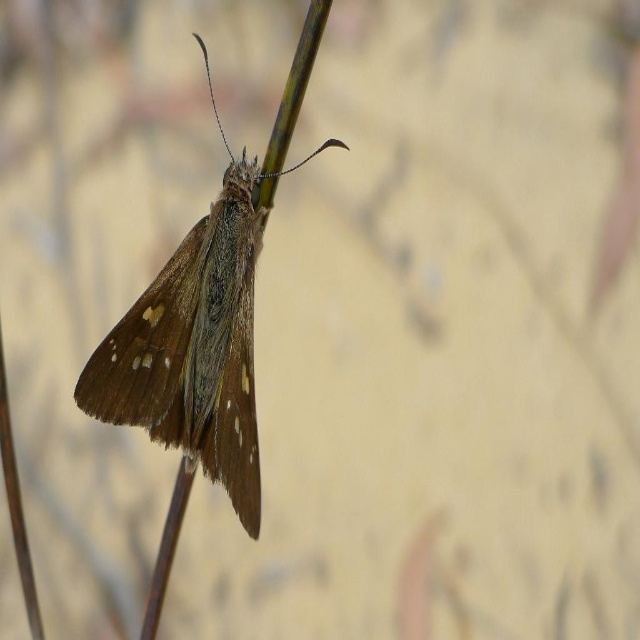Butterfly: (74, 15, 333, 547)
